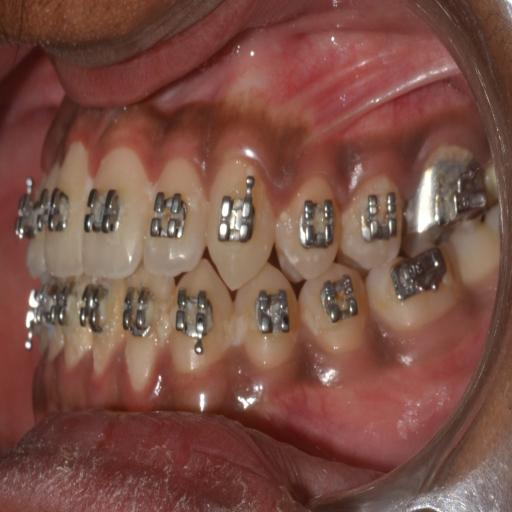correct_brace: (277, 173, 342, 286), (83, 177, 123, 249), (217, 182, 254, 245), (35, 183, 73, 242), (150, 188, 186, 248)
incorrect_brace: (144, 152, 208, 279), (295, 190, 336, 257)
